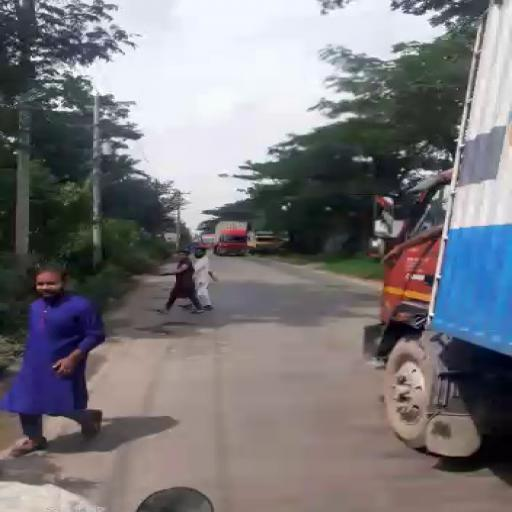pickup: (375, 4, 511, 441)
truck: (214, 219, 252, 258), (247, 232, 279, 255)
